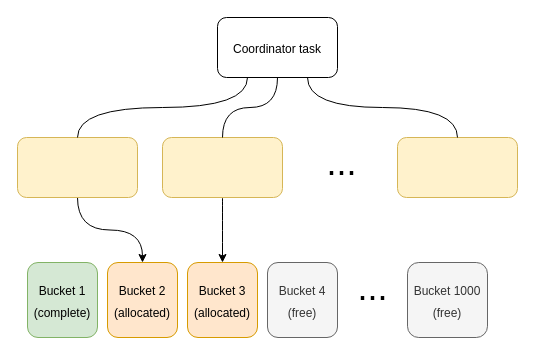
Image size: 535x355. Some labels were removed from this diagram. The centre of each missing label's shape, as x and y in pixels:
Worker task 1: the point at 77,167
Worker task 2: the point at 222,167
Worker task N: the point at 457,167
